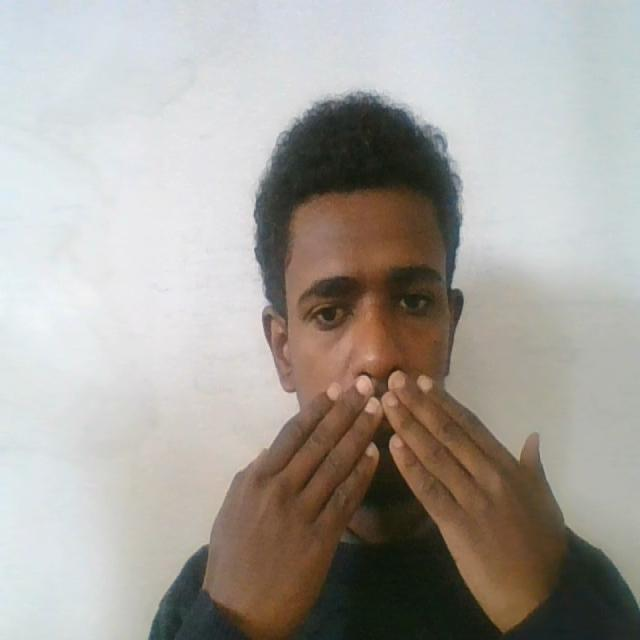thanks: (181, 357, 627, 639)
